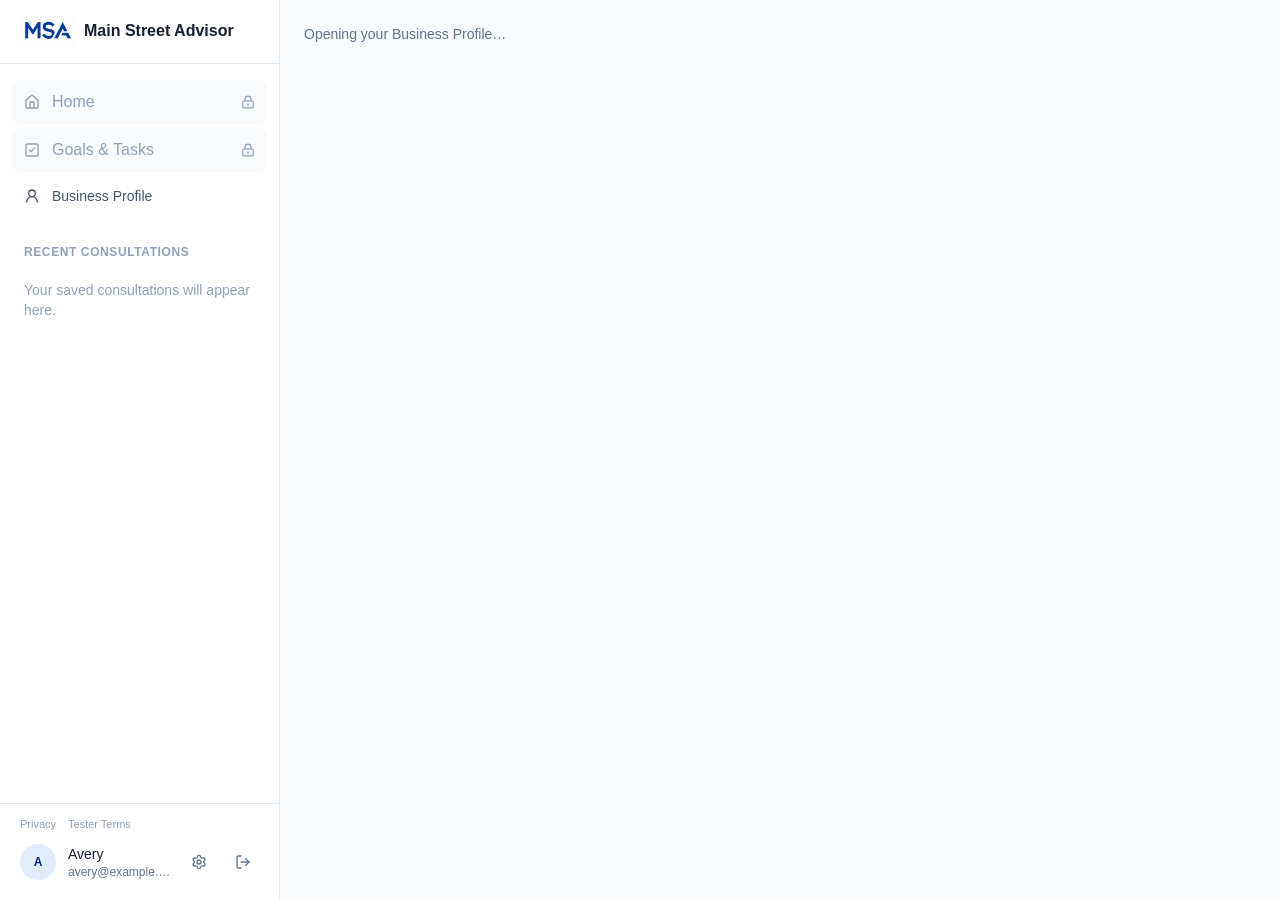
it: required profile setup › blocks direct access and explains disabled navigation
Click the button "Home" at (140, 102), box x1=12 y1=80 x2=267 y2=124
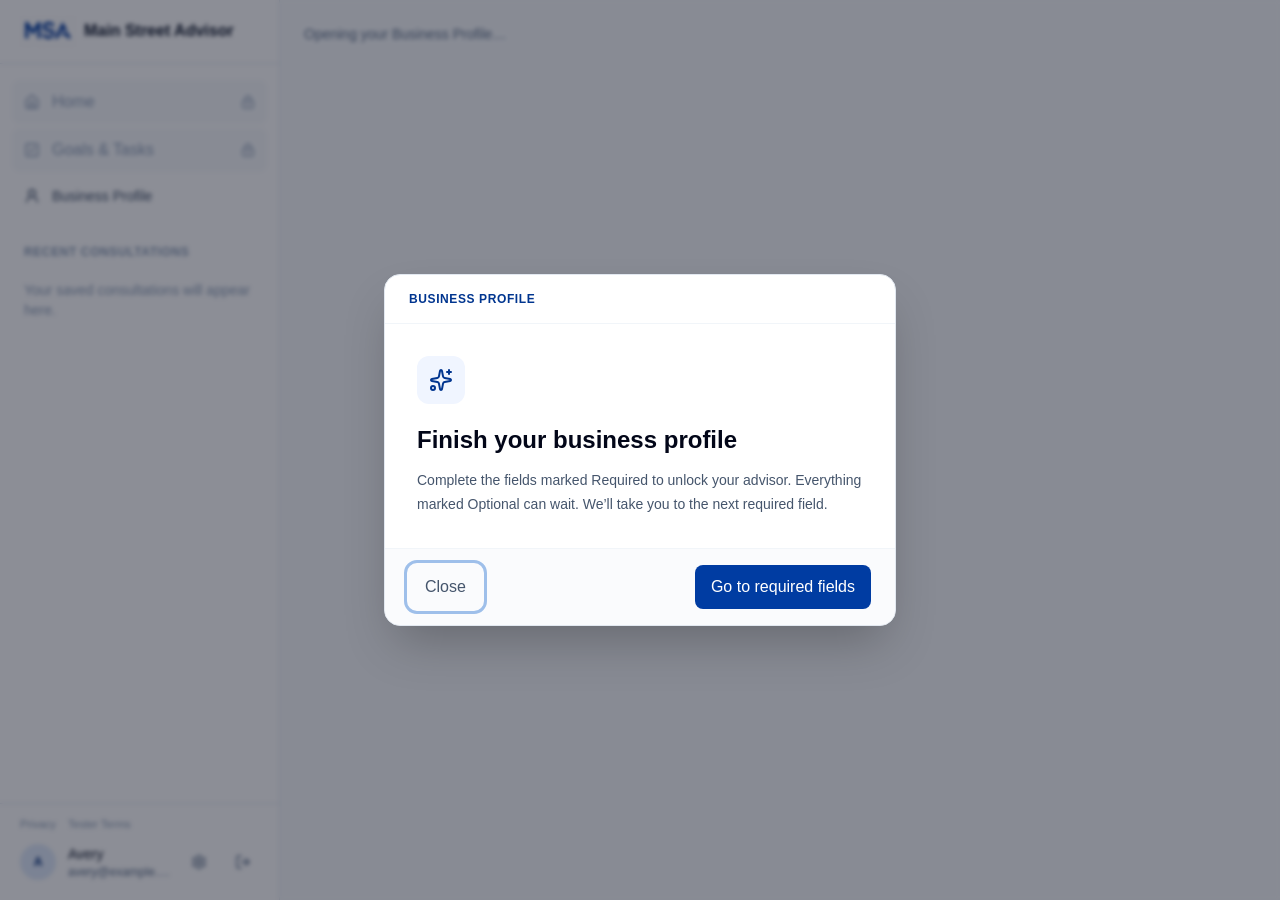
Result: the dialog "Finish your business profile" is shown at x1=384 y1=274 x2=896 y2=626
